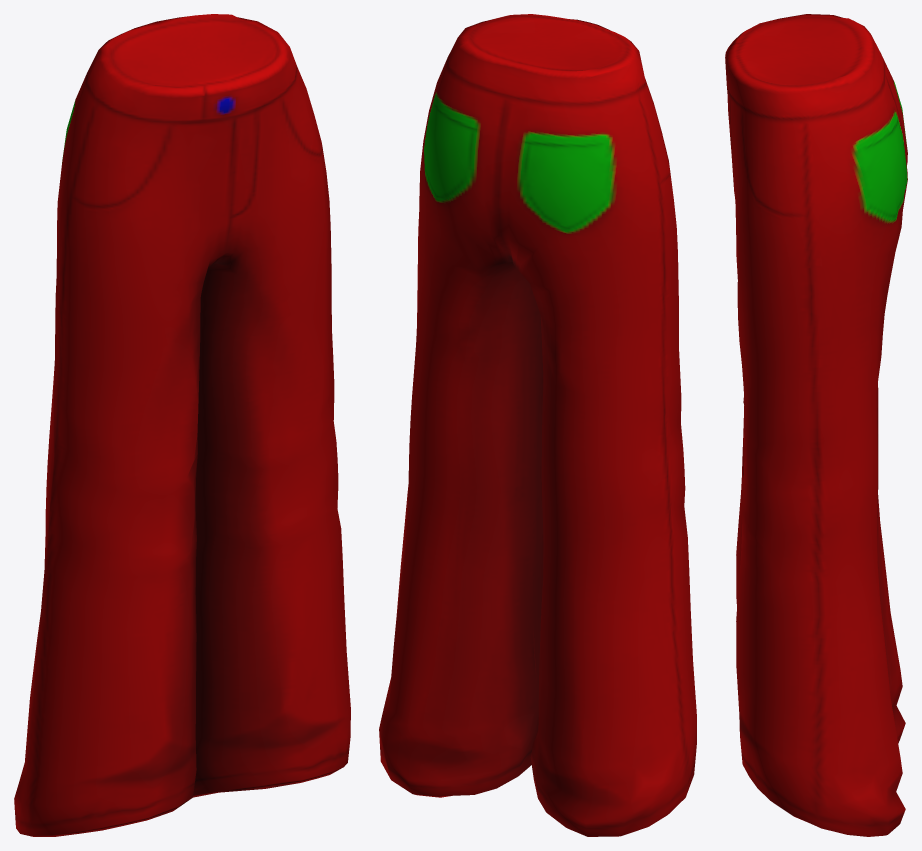
File: Bottom_WidePants.obj
The picture shows the model from 3 angles, left to right: view 1: azimuth 30°, elevation 25°; view 2: azimuth 150°, elevation 25°; view 3: azimuth 270°, elevation 25°; orthographic projection. The views are drawn at different scales.
Visible parts, largest first — view 1: Bottom_WidePants_0; view 2: Bottom_WidePants_0; view 3: Bottom_WidePants_0.
Boxes of the visible parts, x1,y1,x2,y2 form: Bottom_WidePants_0: (14,14,350,836); Bottom_WidePants_0: (379,14,696,836); Bottom_WidePants_0: (725,14,907,836).
Size of the model in its own units: 0.4476 by 1.08 by 0.2434.
1 material, 1 textured.
